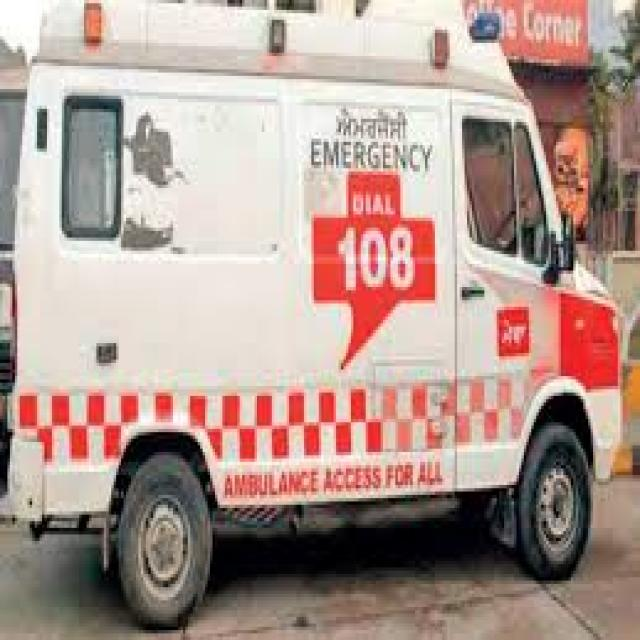Ambulance: (15, 40, 637, 610)
